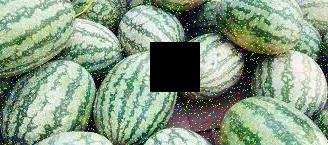watermelon: (96, 51, 180, 136), (6, 62, 93, 144), (249, 51, 328, 120), (176, 33, 243, 103), (121, 5, 186, 56)
